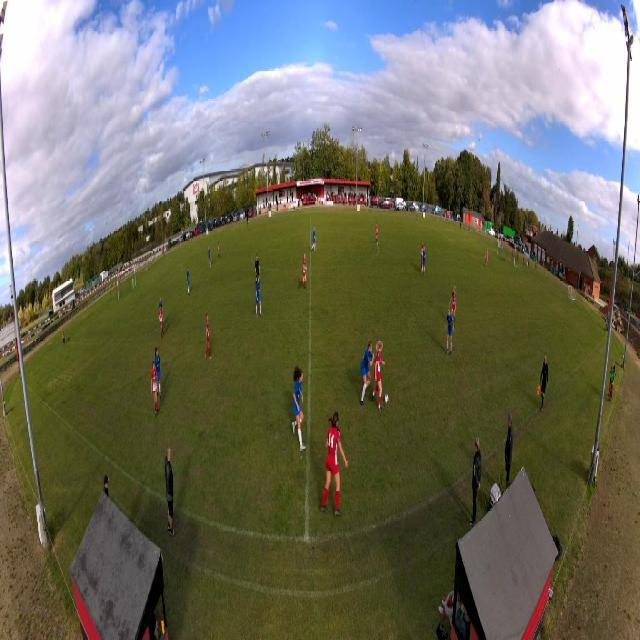ball: (385, 393, 390, 405)
player: (321, 409, 349, 520), (290, 363, 306, 452), (374, 338, 385, 414), (361, 340, 373, 408), (150, 362, 158, 419), (446, 308, 455, 357), (153, 347, 162, 395), (297, 251, 307, 289), (449, 286, 458, 325), (256, 277, 263, 319), (205, 310, 210, 362), (158, 306, 164, 338), (311, 226, 317, 255), (422, 246, 427, 275), (255, 255, 260, 283), (186, 267, 190, 296), (421, 240, 425, 268), (159, 295, 164, 314), (374, 223, 378, 244), (485, 247, 489, 266), (208, 246, 211, 268), (217, 240, 220, 259), (132, 276, 135, 294)
